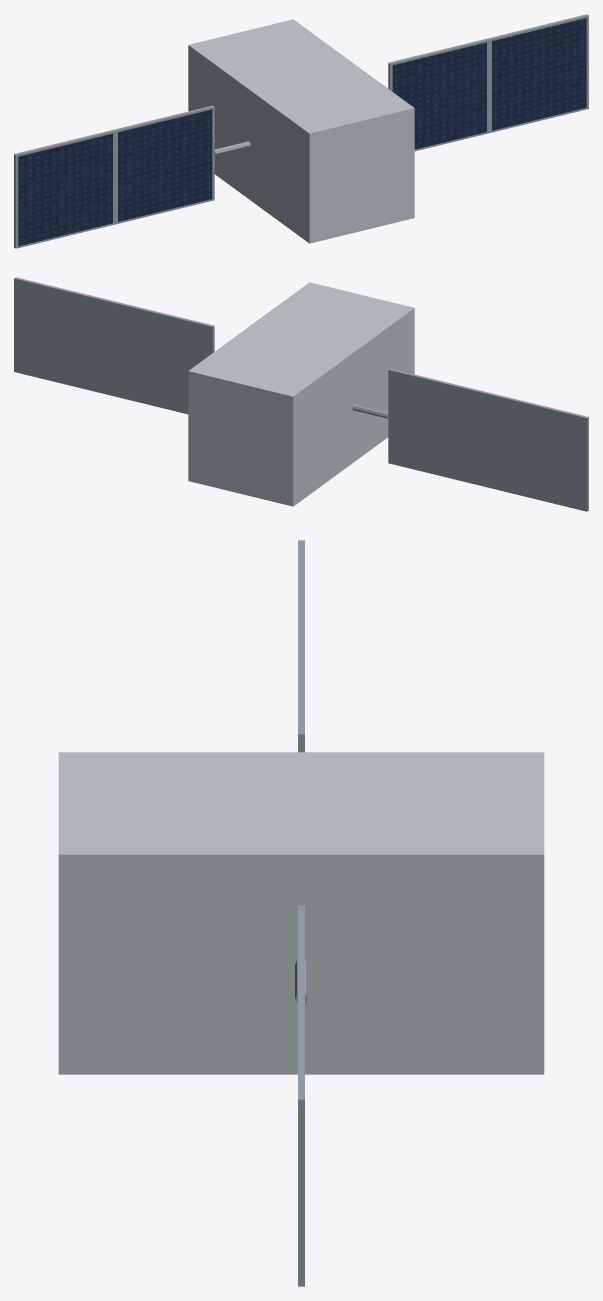
File: ref-ssb-2-39086.glb
3 views of the same model, one above another, from view 1: azimuth 30°, elevation 25°; view 2: azimuth 150°, elevation 25°; view 3: azimuth 270°, elevation 25° (orthographic). The views are drawn at different scales.
Parts seen in each view (by area): view 1: Spacecraft body, Photovoltaic laminates (×4), Array frame (×4); view 2: Array frame (×4), Spacecraft body; view 3: Spacecraft body, Array frame.
Part boxes in pixels (left/top/right/bottom): Spacecraft body: left=188, top=19, right=414, bottom=243; Photovoltaic laminates (×4): left=18, top=18, right=586, bottom=246; Array frame (×4): left=14, top=14, right=588, bottom=248; Array frame (×4): left=14, top=277, right=588, bottom=511; Spacecraft body: left=188, top=282, right=414, bottom=506; Spacecraft body: left=58, top=752, right=544, bottom=1074; Array frame: left=298, top=1002, right=304, bottom=1286.
Size of the model in its own units: 6 by 1.1 by 2.2.
3 materials, 1 textured.
